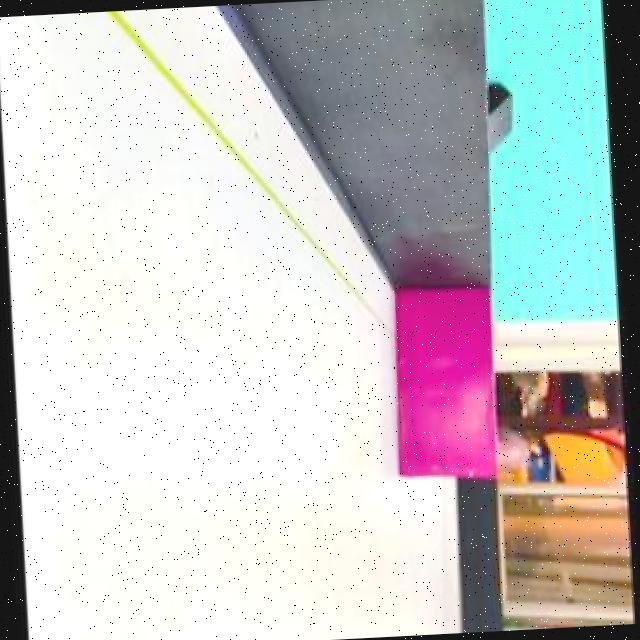xparking: (395, 297, 490, 478)
